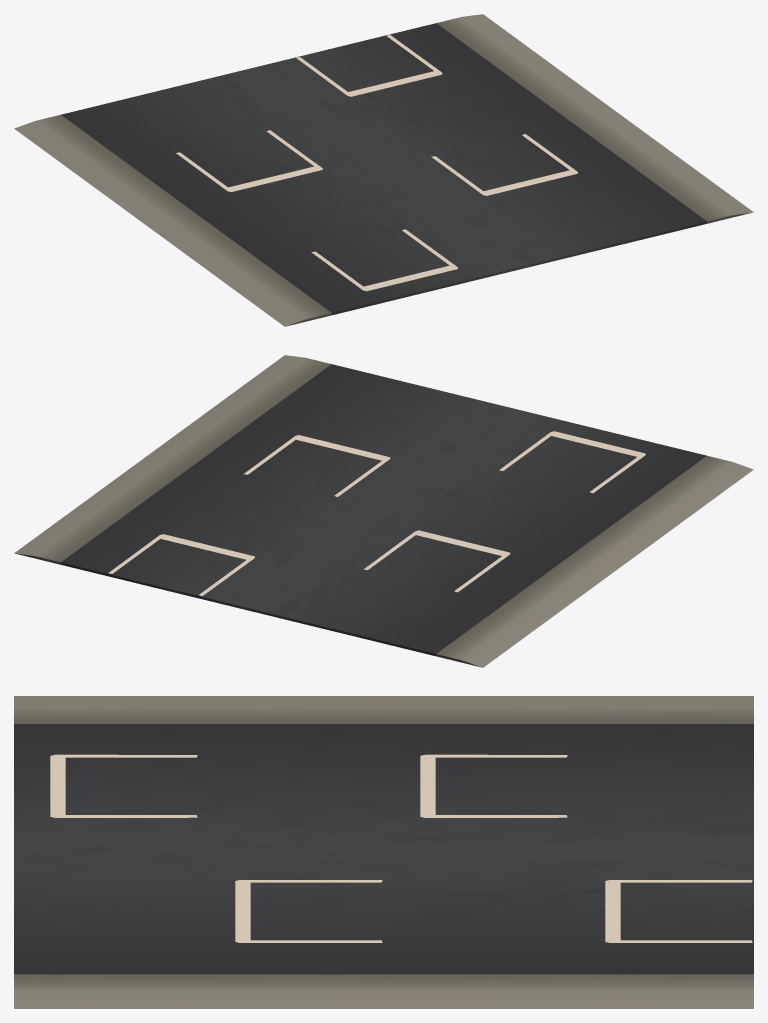
File: Straight_1C.glb
3 views of the same model, one above another, from view 1: azimuth 30°, elevation 25°; view 2: azimuth 150°, elevation 25°; view 3: azimuth 270°, elevation 25° (orthographic). The views are drawn at different scales.
Visible parts, largest first — view 1: Straight_1C; view 2: Straight_1C; view 3: Straight_1C.
Boxes of the visible parts, x1,y1,x2,y2 form: Straight_1C: (14, 14, 753, 326); Straight_1C: (14, 355, 753, 667); Straight_1C: (14, 696, 753, 1008).
Bounding box in the file's own units: 20 × 0.1065 × 20.
Materials: 1 (1 with a texture image).
